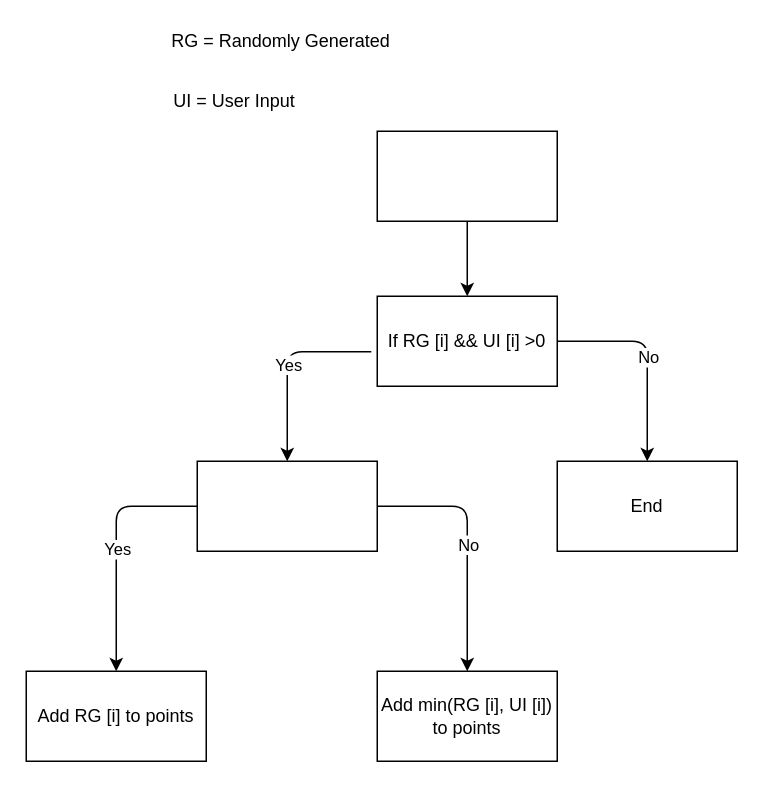
The diagram is 764 pixels wide and 788 high, and some of its shapes have lost their labels. Each missing label, with the box of its shape:
Input: 2 values from 2 arrays: (376, 130, 557, 221)
RG [i] == UI [i]: (196, 460, 377, 551)
